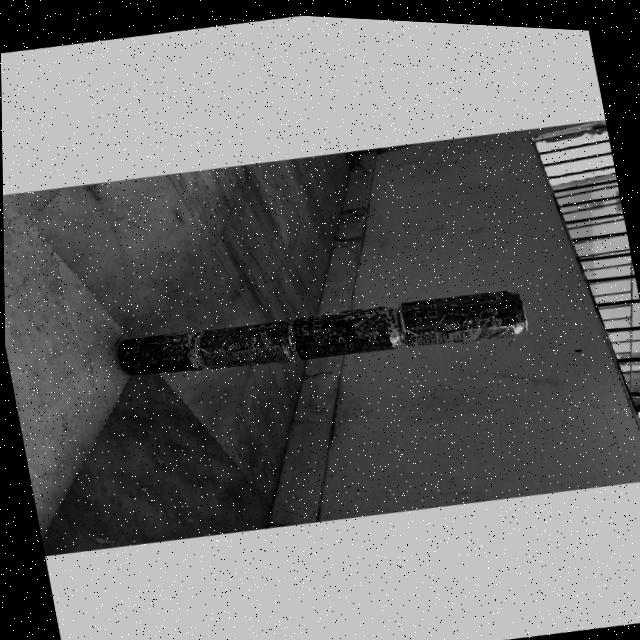Monster Aussie Lemonade: (290, 294, 403, 362), (116, 325, 204, 380)
Monster Mango Loco: (398, 275, 528, 348), (194, 310, 295, 370)
